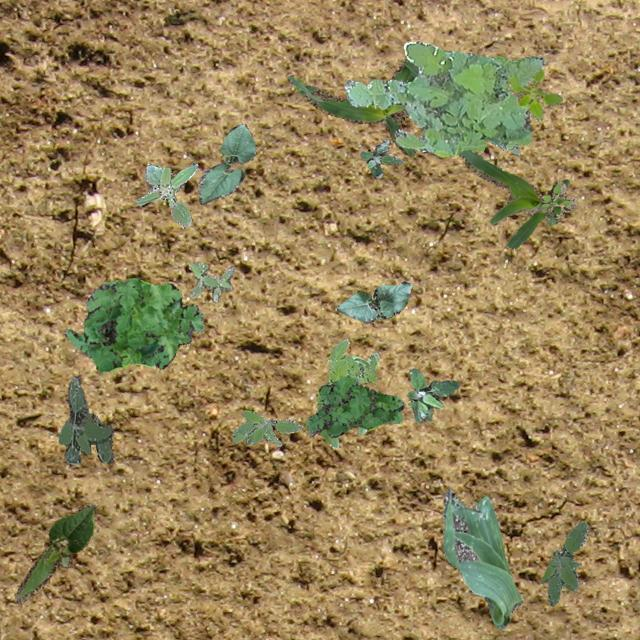crop: (286, 58, 418, 156), (442, 486, 522, 628), (456, 148, 568, 248), (14, 502, 94, 602), (197, 122, 254, 204), (336, 280, 412, 320)
weed: (343, 41, 544, 156), (64, 276, 204, 372), (315, 338, 381, 448), (304, 374, 402, 436), (58, 374, 112, 464), (540, 520, 588, 604), (136, 162, 197, 226), (406, 368, 458, 422), (508, 68, 562, 120), (232, 410, 302, 446), (188, 260, 235, 302), (359, 138, 402, 178), (538, 180, 576, 217), (486, 136, 518, 154)
